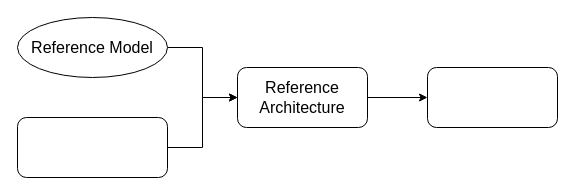
Image size: 575x195. Some labels were removed from this diagram. The centre of each missing label's shape, as x and y in pixels:
Architectural Pattern: (x=92, y=147)
Software Architecture: (x=492, y=97)
